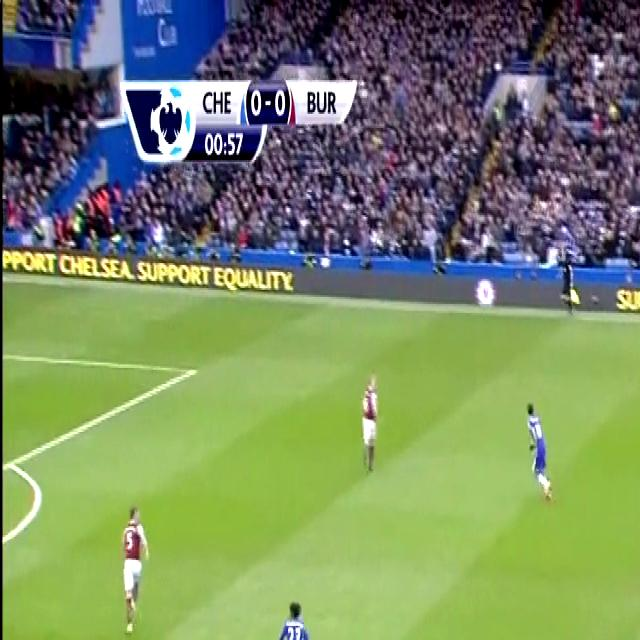referee: (554, 243, 586, 318)
soccer-player: (109, 498, 163, 636), (518, 395, 558, 500), (351, 369, 383, 482), (274, 594, 318, 640), (63, 638, 117, 640)
